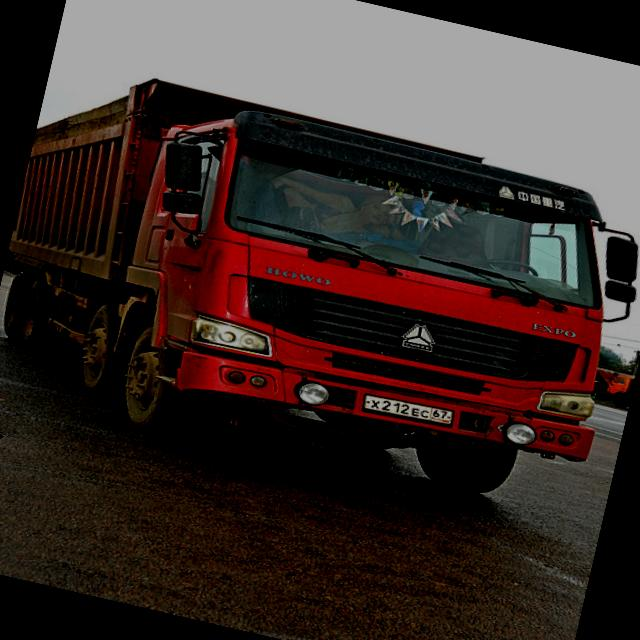Vehicle: (0, 54, 640, 534)
